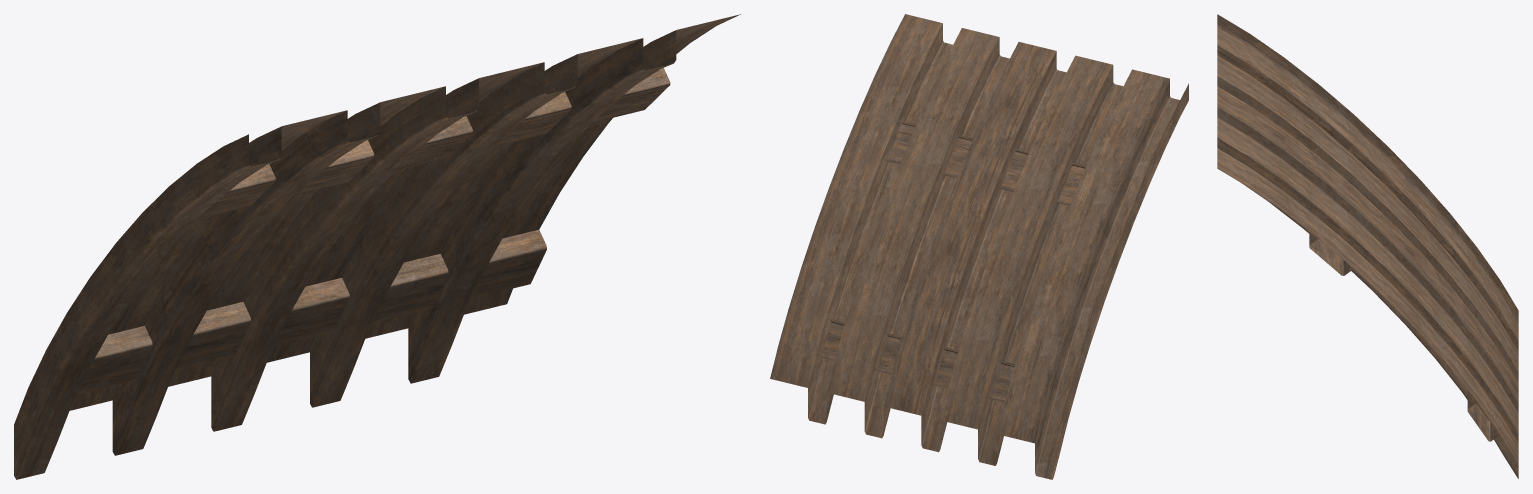
File: SM_ChurchRoofInterior.fbx
3 renders of one model, left to right at view 1: azimuth 30°, elevation 25°; view 2: azimuth 150°, elevation 25°; view 3: azimuth 270°, elevation 25°, orthographic. The views are drawn at different scales.
Parts seen in each view (by area): view 1: SM_ChurchRoofInterior_LOD0; view 2: SM_ChurchRoofInterior_LOD0; view 3: SM_ChurchRoofInterior_LOD0.
Boxes of the visible parts, x1=… form: SM_ChurchRoofInterior_LOD0: x1=14, y1=14, x2=740, y2=479; SM_ChurchRoofInterior_LOD0: x1=770, y1=14, x2=1188, y2=479; SM_ChurchRoofInterior_LOD0: x1=1217, y1=14, x2=1518, y2=478.
Bounding box in the file's own units: 400 × 330 × 402.
Materials: 1 (1 with a texture image).
